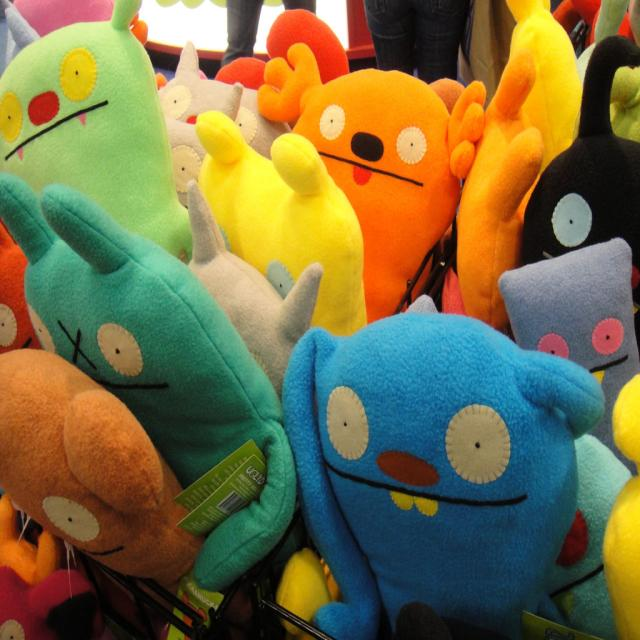Toy: (0, 175, 311, 604), (280, 294, 568, 639), (251, 31, 487, 325), (0, 338, 223, 584), (501, 231, 640, 479), (520, 32, 640, 318), (185, 172, 322, 418), (447, 46, 548, 326), (548, 424, 638, 639), (506, 0, 588, 181), (158, 23, 240, 180), (604, 363, 640, 640), (225, 75, 311, 169)
